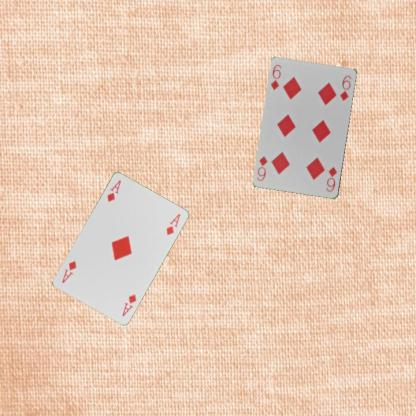6d: (268, 63, 283, 92), (324, 164, 338, 193)
Ad: (119, 291, 138, 317), (104, 177, 122, 203)
